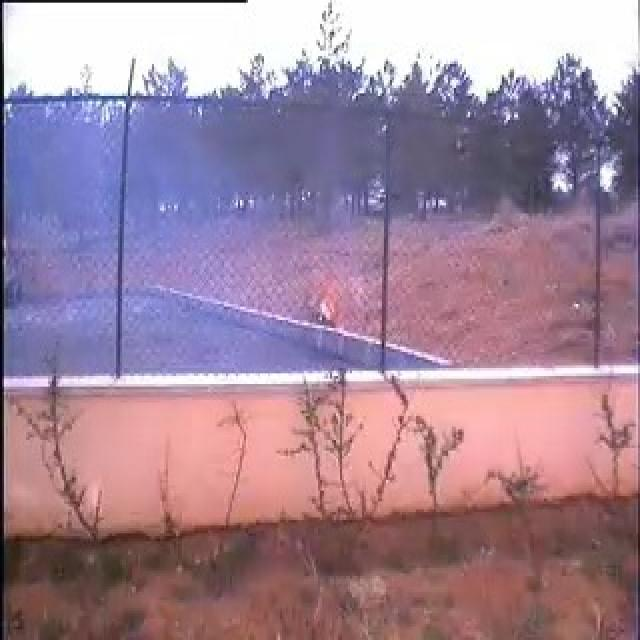smoke: (59, 124, 306, 370)
